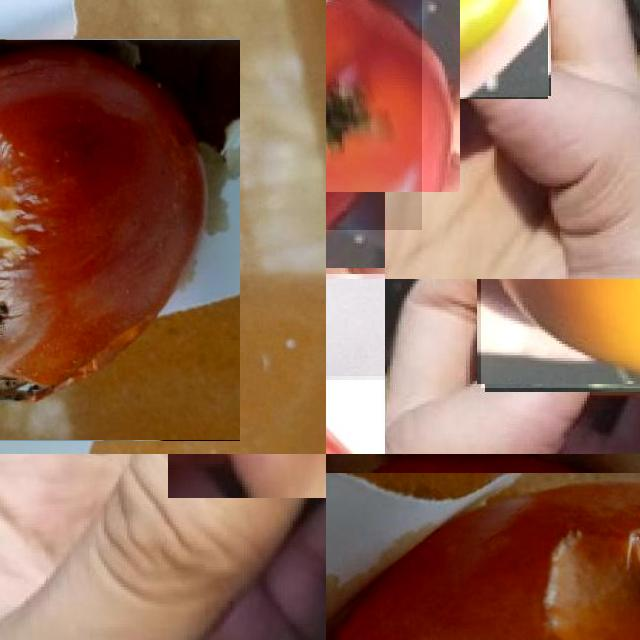1: (326, 454, 640, 640)
Fresh Tomato: (326, 0, 422, 230)
Rotten Tomato: (0, 39, 240, 440), (480, 279, 640, 387), (385, 0, 549, 97)
